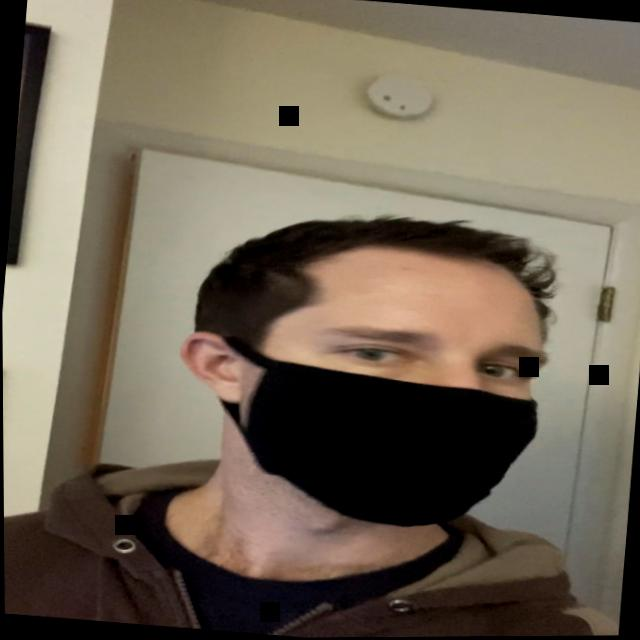Mask: (162, 209, 575, 561)
